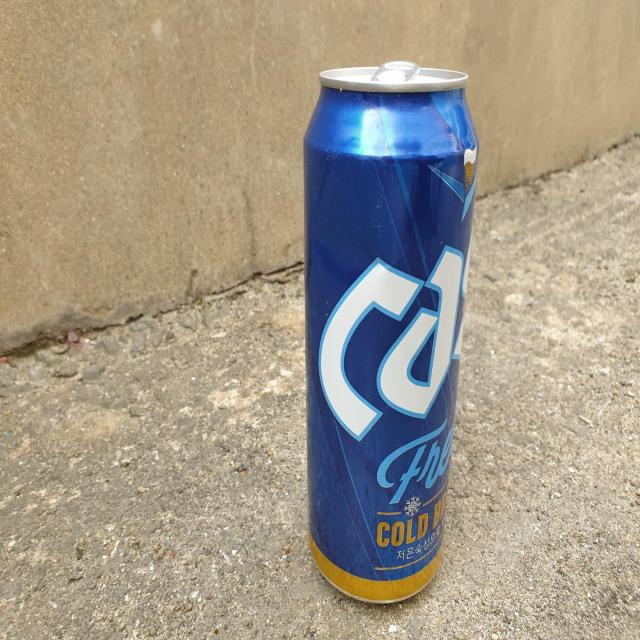can: (305, 61, 479, 604)
